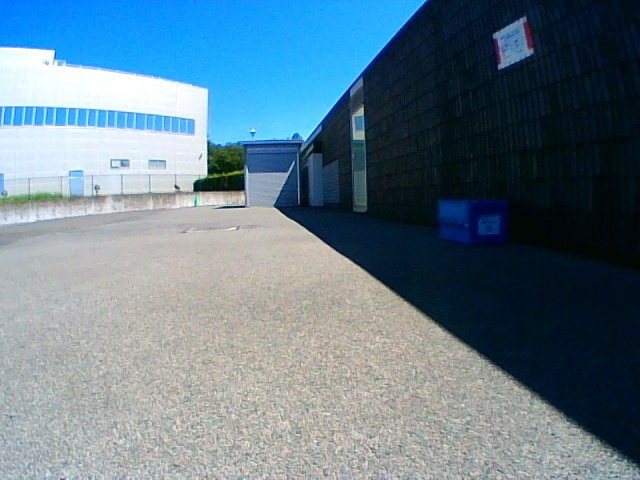blue_box: (438, 199, 507, 243)
tag: (480, 217, 499, 234)
